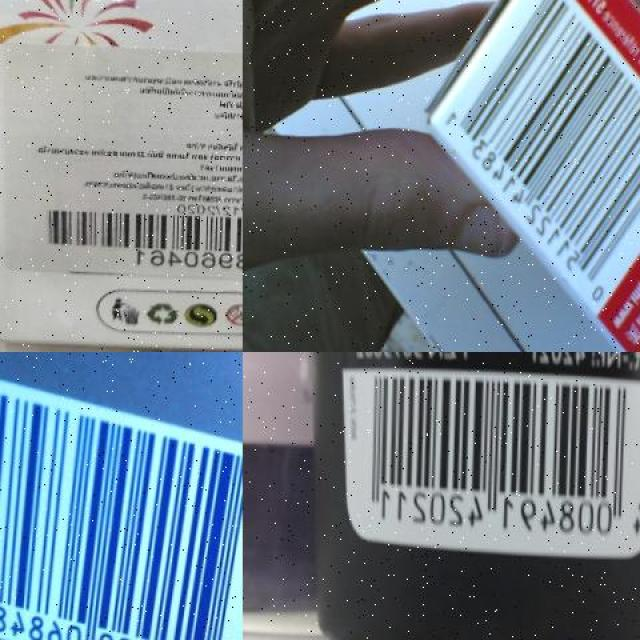Barcode: (422, 0, 640, 312), (0, 366, 242, 640), (354, 365, 640, 551), (32, 199, 243, 268)
